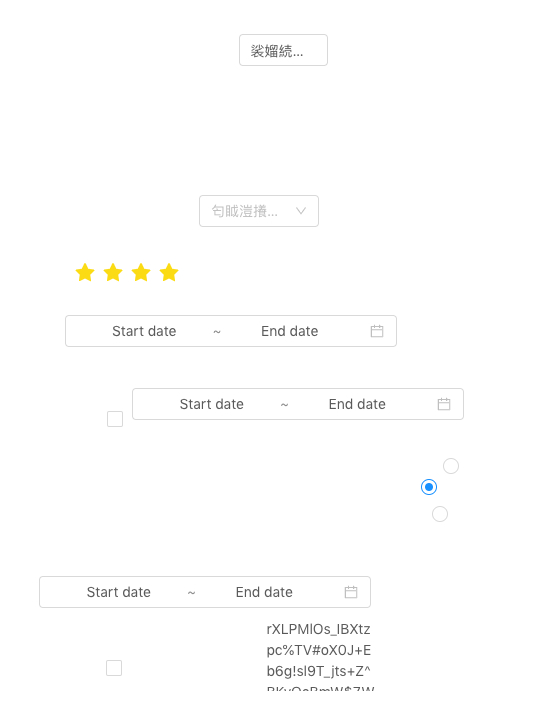Checkbox: (107, 408, 123, 429), (106, 657, 122, 678)
Input: (239, 34, 328, 66)
Radio: (443, 455, 459, 475), (421, 476, 437, 496), (432, 503, 448, 523)
RangePicker: (39, 576, 501, 608), (65, 315, 450, 347), (132, 388, 496, 420)
Rate: (75, 256, 195, 288)
Select: (199, 195, 319, 227)
Text: (267, 618, 378, 691)
